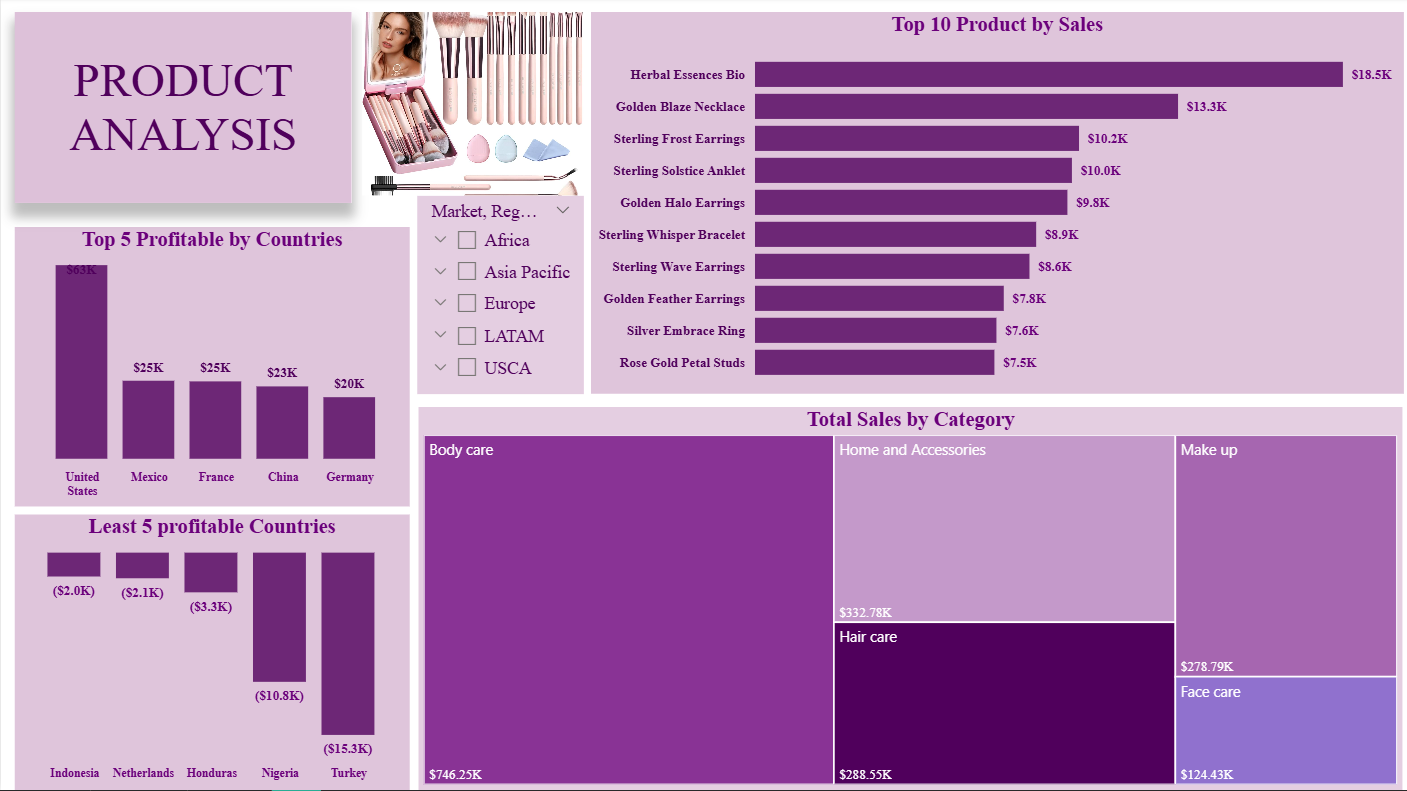

Layout of this report page (visuals, bound fields, positions):
{"tool":"powerbi","page":{"name":"Page 2","canvas":[1280,720],"ordinal":1},"visuals":[{"type":"clusteredBarChart","title":"Top 10 Product by Sales","fields":{"Category":["Skin_Care Target.Product"],"Y":["Sum(Skin_Care Target.Sales)"]},"box":[534.9,14,737.2,346.5],"z":0},{"type":"treemap","title":"Total Sales by Category","fields":{"Values":["Sum(Skin_Care Target.Sales)"],"Group":["Skin_Care Target.Category"]},"box":[379.1,372.1,893,347.7],"z":1000},{"type":"slicer","fields":{"Values":["Skin_Care Target.Market","Skin_Care Target.Region"]},"box":[377.9,180.2,151.2,180.2],"z":2000},{"type":"columnChart","title":"Top 5 Profitable by Countries","fields":{"Category":["Skin_Care Target.Country"],"Y":["Sum(Skin_Care Target.Profit)"]},"box":[12.8,208.1,358.1,253.5],"z":3000},{"type":"columnChart","title":"Least 5 profitable Countries","fields":{"Category":["Skin_Care Target.Country"],"Y":["Sum(Skin_Care Target.Profit)"]},"box":[12.8,469.8,358.1,250],"z":4000},{"type":"shape","box":[12.8,14,305.8,173.3],"z":5000},{"type":"image","box":[327.9,14,201.2,166.3],"z":6000}]}

Visuals, with their boxes in screenshot pixels (x1, y1, x2, y2), scaled from the page's 1280x720 canvas onto the 1407x791 screenshot:
"Top 10 Product by Sales" clusteredBarChart: x1=588, y1=15, x2=1398, y2=396
"Total Sales by Category" treemap: x1=417, y1=409, x2=1398, y2=790
slicer - Skin_Care Target.Market x Skin_Care Target.Region: x1=415, y1=198, x2=582, y2=396
"Top 5 Profitable by Countries" columnChart: x1=14, y1=229, x2=408, y2=507
"Least 5 profitable Countries" columnChart: x1=14, y1=516, x2=408, y2=790
shape: x1=14, y1=15, x2=350, y2=206
image: x1=360, y1=15, x2=582, y2=198
